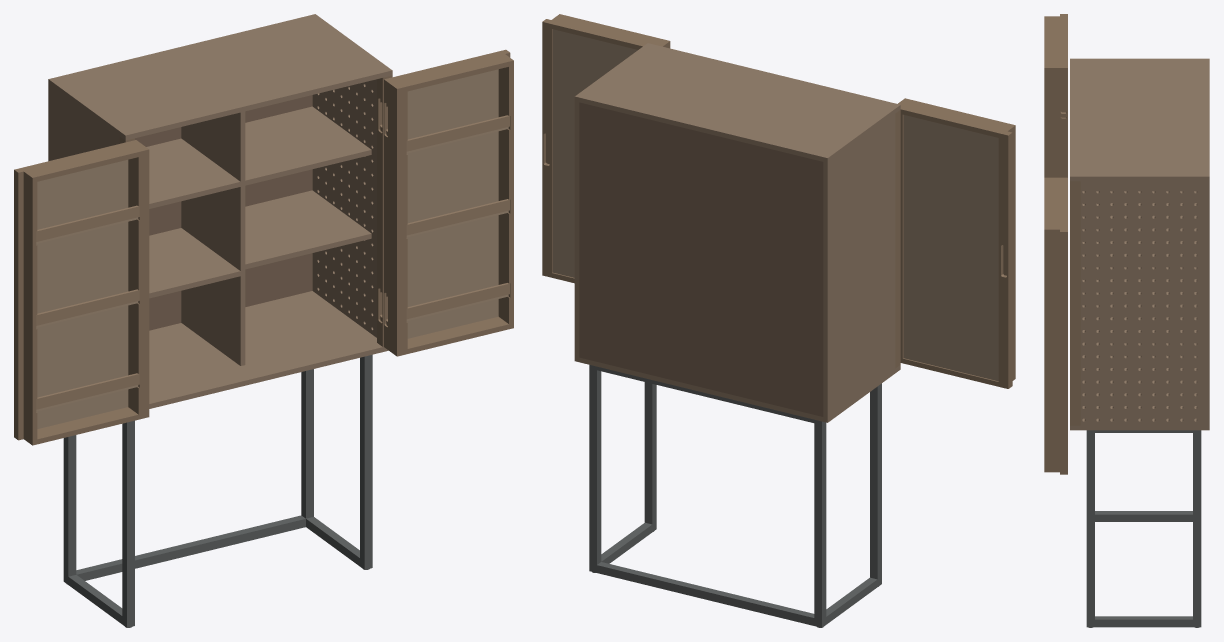
Rendered from open.glb.
3 views of the same model, side by side, from view 1: azimuth 30°, elevation 25°; view 2: azimuth 150°, elevation 25°; view 3: azimuth 270°, elevation 25° (orthographic). The views are drawn at different scales.
Visible parts, largest first — view 1: B01-top, L-front-panel, R-front-panel, B00-bottom, B05-divider, B03-right-pegboard, B04-back, R-hinge-stile, L-meeting-stile, B20-right-shelf, B21-right-shelf, L-hinge-stile (+22 smaller); view 2: B04-back, L-front-panel, B01-top, B02-left-side, R-front-panel, L-meeting-stile, R-meeting-stile, A2-low-rear, A0-post-0-1, A0-post-1-1, A0-post-0-0, A0-post-1-0 (+9 smaller); view 3: B03-right-pegboard, B01-top, R-meeting-stile, L-hinge-stile, R-jamb, A0-post-1-0, A0-post-1-1, A2-low-depth-1, L-top-rail, R-top-rail, A2-low-depth-0, B00-bottom (+1 smaller).
Boxes of the visible parts, left/top/right/bottom form: B01-top: left=48, top=14, right=392, bottom=140; L-front-panel: left=36, top=159, right=128, bottom=428; R-front-panel: left=406, top=69, right=498, bottom=338; B00-bottom: left=149, top=291, right=388, bottom=408; B05-divider: left=181, top=111, right=245, bottom=365; B03-right-pegboard: left=312, top=79, right=376, bottom=337; B04-back: left=135, top=95, right=312, bottom=330; R-hinge-stile: left=384, top=77, right=407, bottom=356; L-meeting-stile: left=14, top=167, right=37, bottom=445; B20-right-shelf: left=245, top=190, right=371, bottom=269; B21-right-shelf: left=245, top=106, right=371, bottom=185; L-hinge-stile: left=126, top=140, right=149, bottom=419; B04-back: left=579, top=102, right=823, bottom=416; L-front-panel: left=903, top=115, right=998, bottom=381; B01-top: left=574, top=43, right=900, bottom=162; B02-left-side: left=823, top=114, right=895, bottom=417; R-front-panel: left=552, top=29, right=637, bottom=277; L-meeting-stile: left=998, top=124, right=1015, bottom=388; R-meeting-stile: left=542, top=14, right=563, bottom=277; A2-low-rear: left=597, top=562, right=814, bottom=625; A0-post-0-1: left=814, top=422, right=826, bottom=627; A0-post-1-1: left=589, top=368, right=601, bottom=572; A0-post-0-0: left=870, top=383, right=881, bottom=586; A0-post-1-0: left=644, top=382, right=656, bottom=531; B03-right-pegboard: left=1080, top=181, right=1209, bottom=425; B01-top: left=1070, top=58, right=1209, bottom=181; R-meeting-stile: left=1044, top=227, right=1067, bottom=474; L-hinge-stile: left=1044, top=63, right=1067, bottom=177; R-jamb: left=1070, top=181, right=1080, bottom=425; A0-post-1-0: left=1086, top=433, right=1094, bottom=627; A0-post-1-1: left=1193, top=433, right=1201, bottom=627; A2-low-depth-1: left=1095, top=616, right=1192, bottom=627; L-top-rail: left=1044, top=18, right=1067, bottom=63; R-top-rail: left=1044, top=182, right=1067, bottom=227; A2-low-depth-0: left=1095, top=511, right=1192, bottom=521; B00-bottom: left=1070, top=317, right=1209, bottom=430.
Size of the model in its own units: 1.84 by 1.8 by 0.592.
